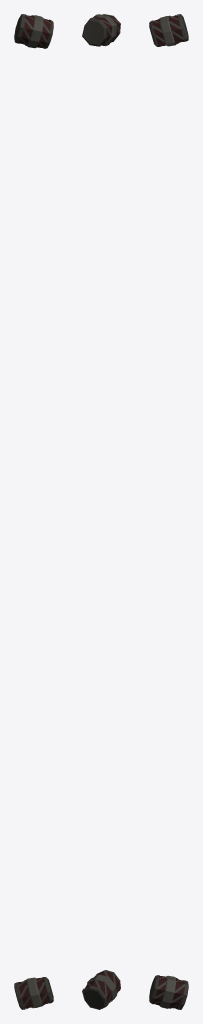
The model's file is largeBowTacticalTip.glb.
The picture shows the model from 3 angles, left to right: view 1: azimuth 90°, elevation 25°; view 2: azimuth 150°, elevation 25°; view 3: azimuth 270°, elevation 25°; orthographic projection.
Visible parts, largest first — view 1: largeBowTacticalTip; view 2: largeBowTacticalTip; view 3: largeBowTacticalTip.
Part boxes in pixels (x1,y1,x2,y2): largeBowTacticalTip: [14, 14, 53, 1009]; largeBowTacticalTip: [82, 14, 120, 1009]; largeBowTacticalTip: [149, 14, 188, 1009].
Size of the model in its own units: 0.0469 by 1.79 by 0.0649.
